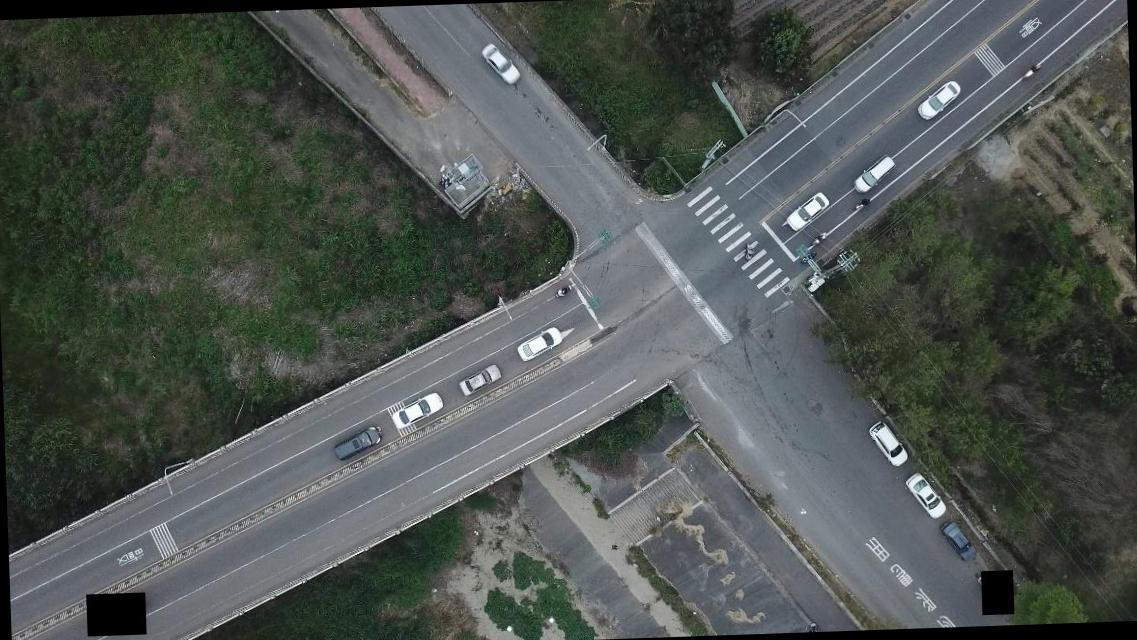vehicle: (392, 390, 446, 430), (852, 152, 898, 197), (902, 471, 946, 517), (868, 420, 908, 464), (916, 80, 960, 120), (516, 324, 562, 362), (480, 41, 520, 84), (332, 426, 382, 460), (785, 192, 828, 231), (940, 519, 978, 562), (458, 363, 504, 396)
